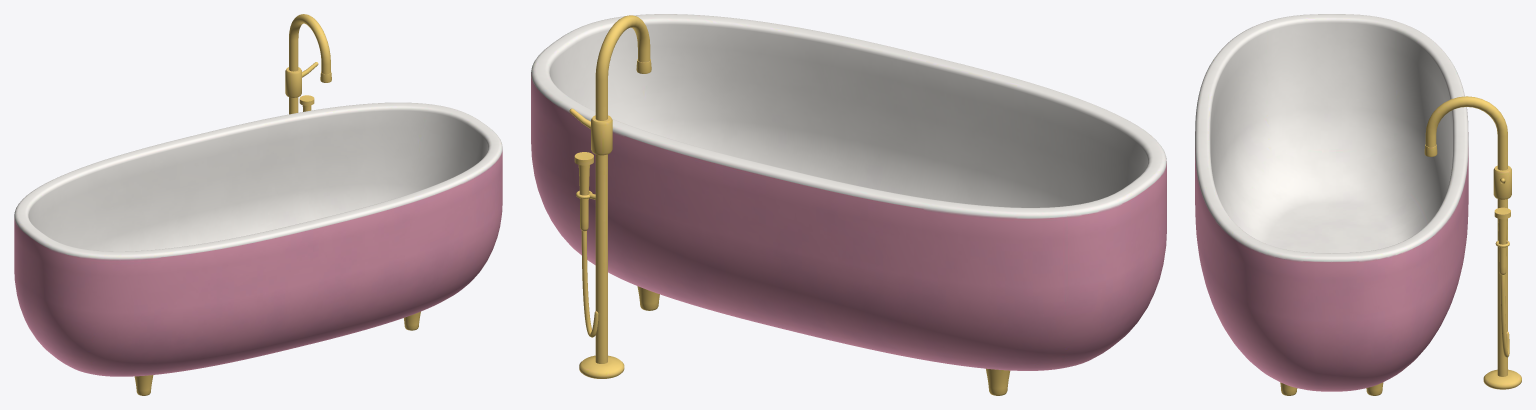
The model's file is bathtub.glb.
3 views of the same model, side by side, from view 1: azimuth 30°, elevation 25°; view 2: azimuth 150°, elevation 25°; view 3: azimuth 270°, elevation 25° (orthographic). The views are drawn at different scales.
Visible parts, largest first — view 1: bathtub_body; view 2: bathtub_body; view 3: bathtub_body.
Part boxes in pixels (x1,y1,x2,y2): bathtub_body: [14, 14, 502, 395]; bathtub_body: [531, 14, 1166, 395]; bathtub_body: [1195, 14, 1521, 395].
Size of the model in its own units: 1.7 by 0.9205 by 0.956.
Materials: 1 (1 with a texture image).
